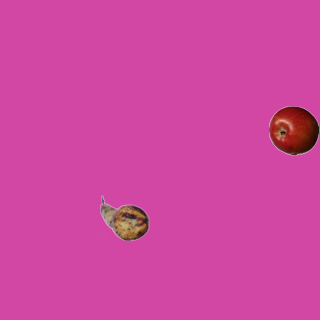Apple Braeburn: (268, 105, 318, 155)
Pear Abate: (99, 193, 149, 243)
